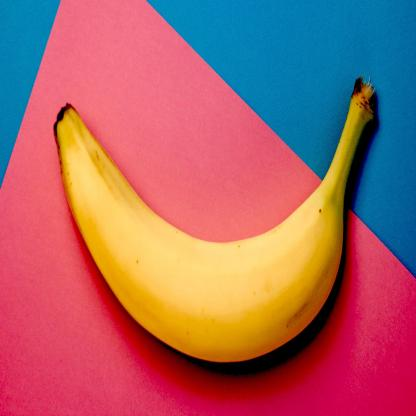banana: (48, 80, 374, 378)
